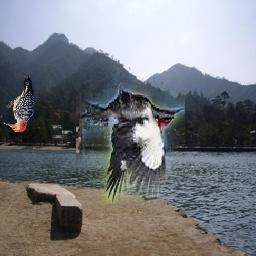Woodpecker: (77, 68, 186, 205), (4, 76, 35, 132)
